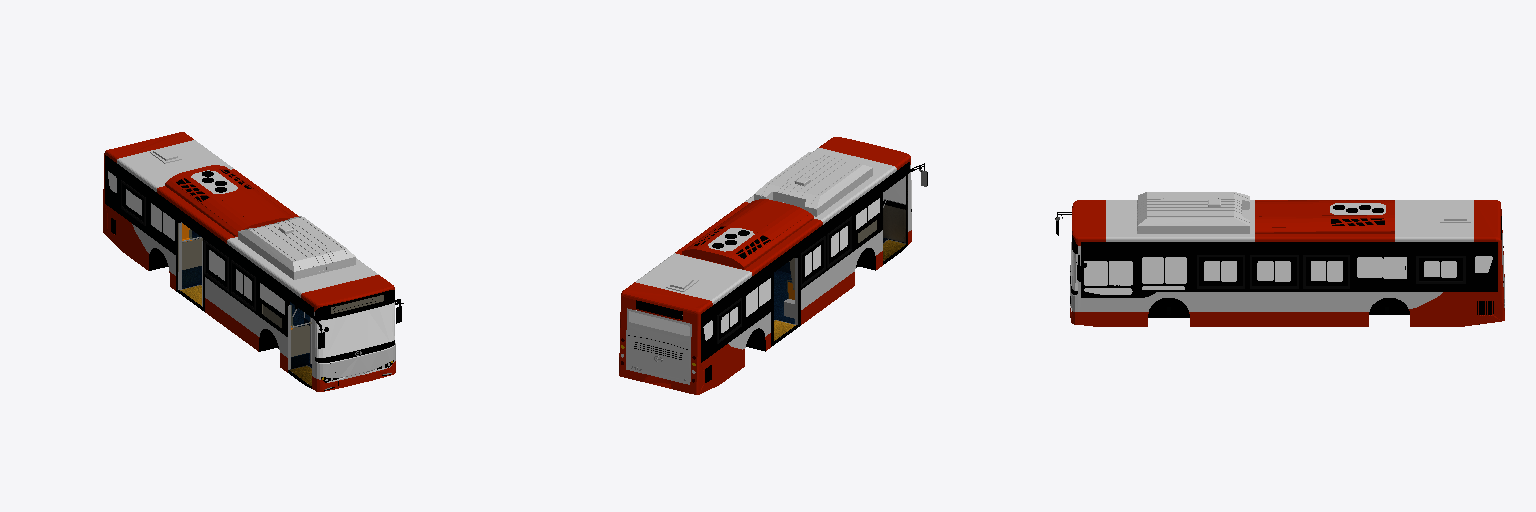
The picture shows the model from 3 angles: view 1: azimuth 30°, elevation 25°; view 2: azimuth 150°, elevation 25°; view 3: azimuth 270°, elevation 25°; orthographic projection.
Parts seen in each view (by area): view 1: outdoor, glasses, indoor; view 2: outdoor, indoor, glasses; view 3: outdoor, glasses.
Part boxes in pixels (x1,y1,x2,y2): outdoor: (103,132,403,391); glasses: (108,171,394,357); indoor: (126,204,383,387); outdoor: (619,137,927,394); indoor: (636,175,907,341); glasses: (629,176,911,340); outdoor: (1055,192,1504,326); glasses: (1071,242,1492,294).
Size of the model in its own units: 3.1 by 3.24 by 12.52.
Materials: 37 (2 with a texture image).